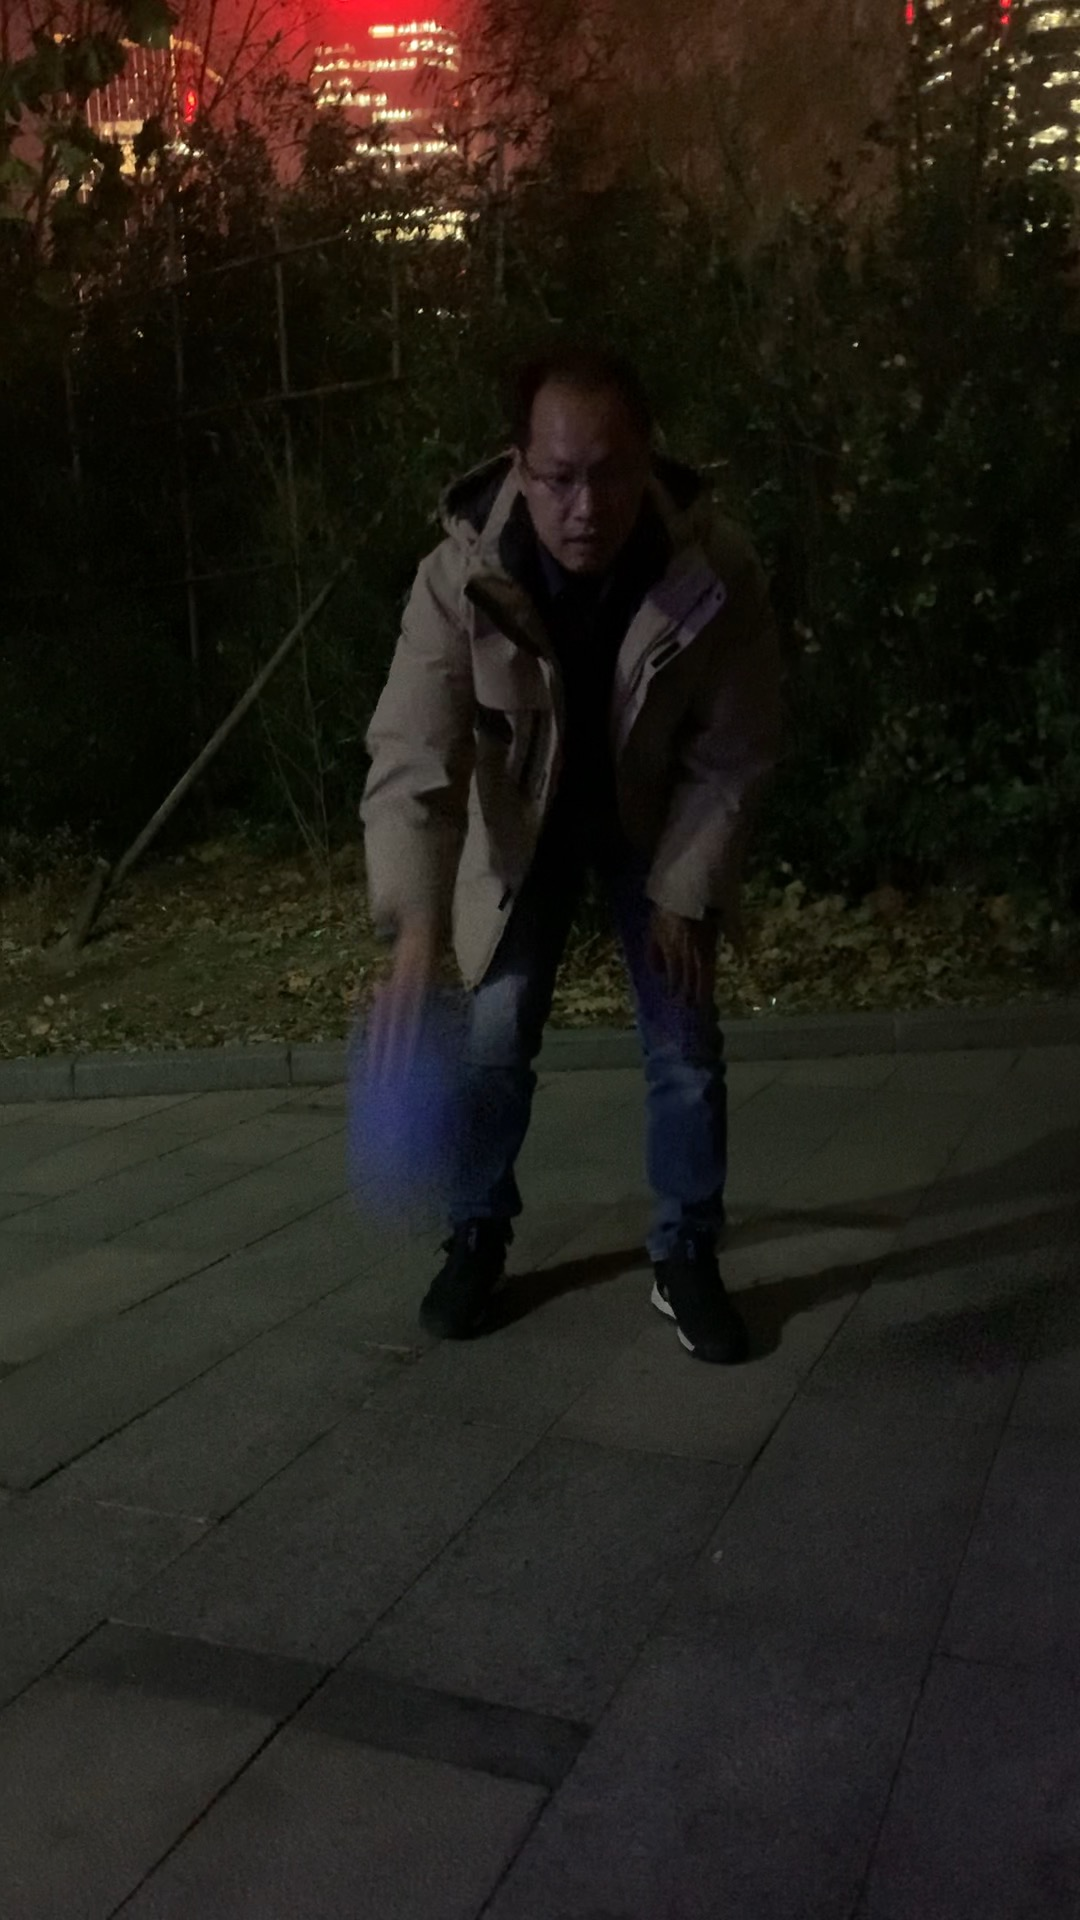ball: (352, 1035, 524, 1203)
